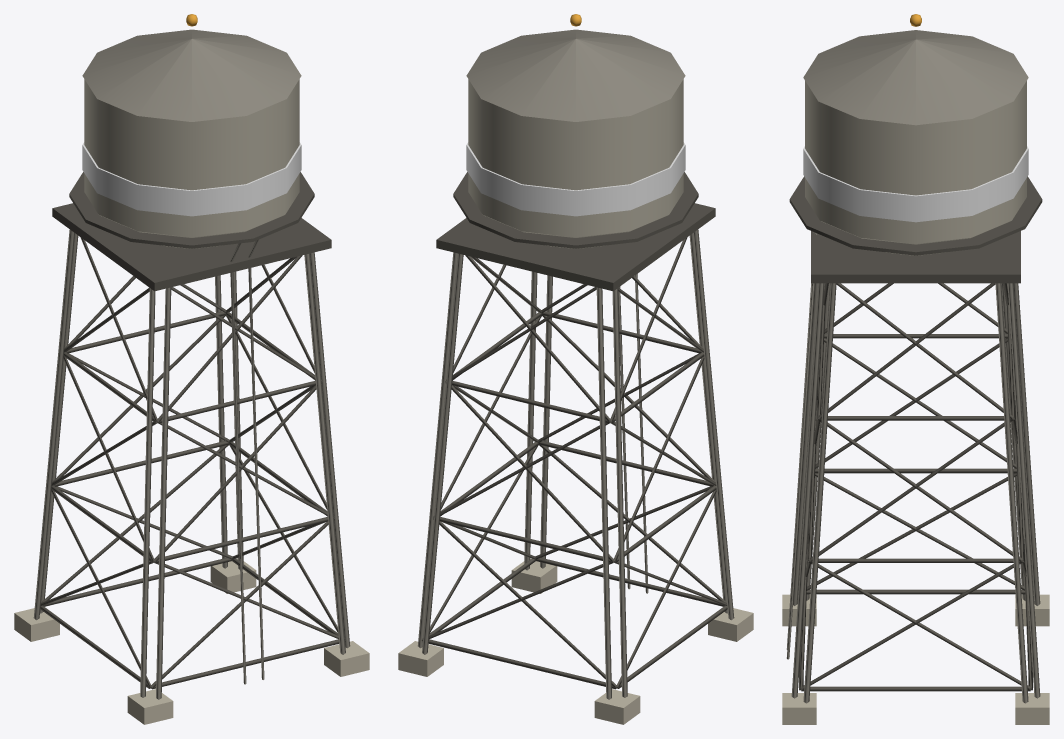
3 views of the same model, side by side, from view 1: azimuth 30°, elevation 25°; view 2: azimuth 150°, elevation 25°; view 3: azimuth 270°, elevation 25° (orthographic). The views are drawn at different scales.
Visible parts, largest first — view 1: site_water_tower_restored; view 2: site_water_tower_restored; view 3: site_water_tower_restored.
Boxes of the visible parts, box(x1,y1,x2,y2) form: site_water_tower_restored: box(14, 14, 369, 724); site_water_tower_restored: box(398, 14, 753, 724); site_water_tower_restored: box(782, 14, 1049, 724).
Bounding box in the file's own units: 7 × 18.88 × 7.
